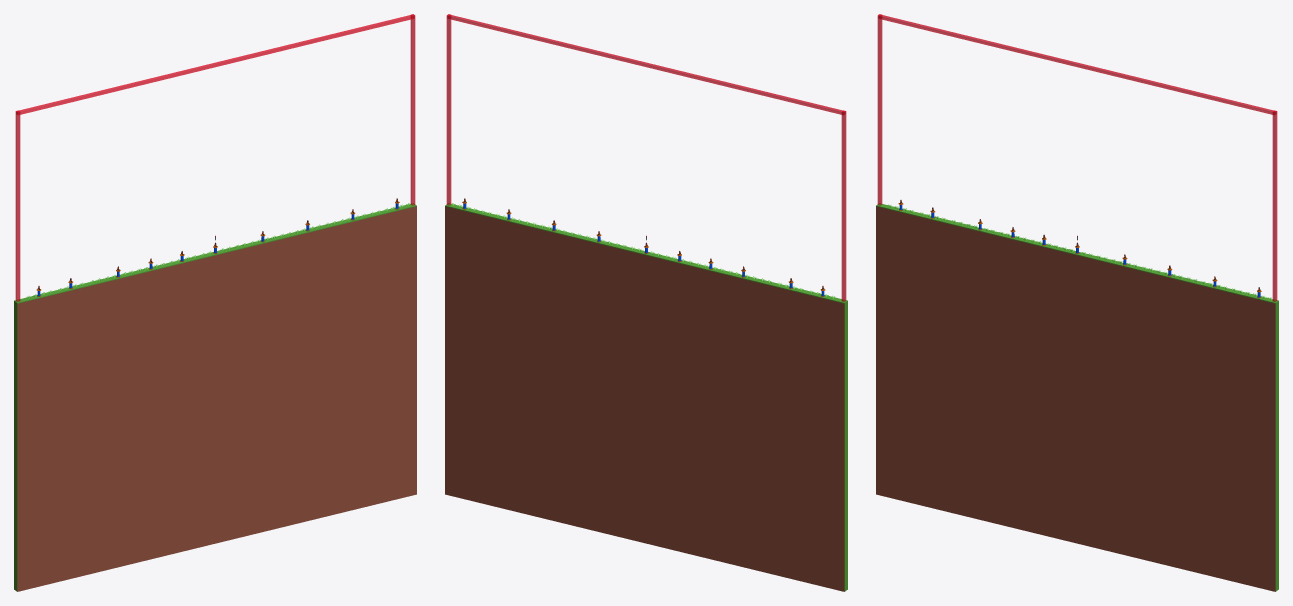
The model's file is avia1.fbx.
The picture shows the model from 3 angles, left to right: view 1: azimuth 30°, elevation 25°; view 2: azimuth 150°, elevation 25°; view 3: azimuth 330°, elevation 25°; orthographic projection.
Visible parts, largest first — view 1: Куб.002, Куб.054; view 2: Куб.002, Куб.054; view 3: Куб.002, Куб.054.
Boxes of the visible parts, left/top/right/bottom form: Куб.002: left=14, top=203, right=416, bottom=591; Куб.054: left=15, top=14, right=415, bottom=301; Куб.002: left=445, top=203, right=847, bottom=591; Куб.054: left=446, top=14, right=846, bottom=301; Куб.002: left=876, top=203, right=1278, bottom=591; Куб.054: left=877, top=14, right=1277, bottom=301.
Size of the model in its own units: 28460 by 32608 by 408.
